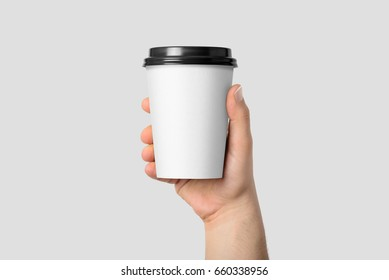cup: (143, 45, 240, 181)
